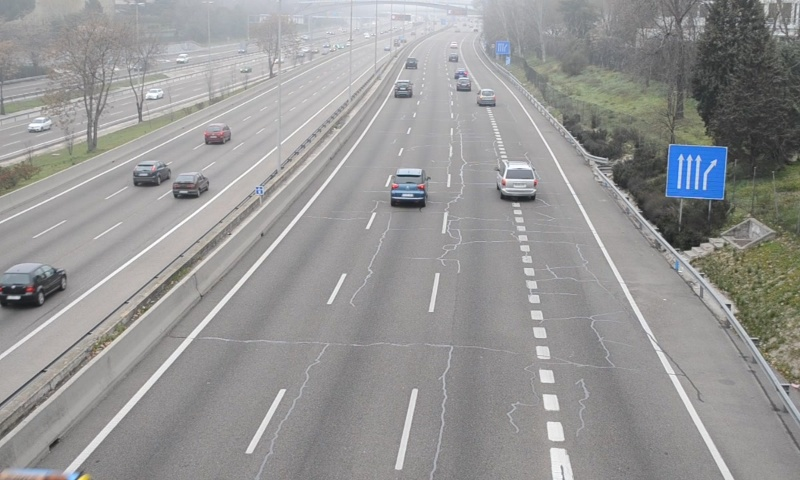car: (496, 161, 536, 199), (389, 168, 427, 204), (392, 79, 413, 99), (477, 88, 496, 106)
